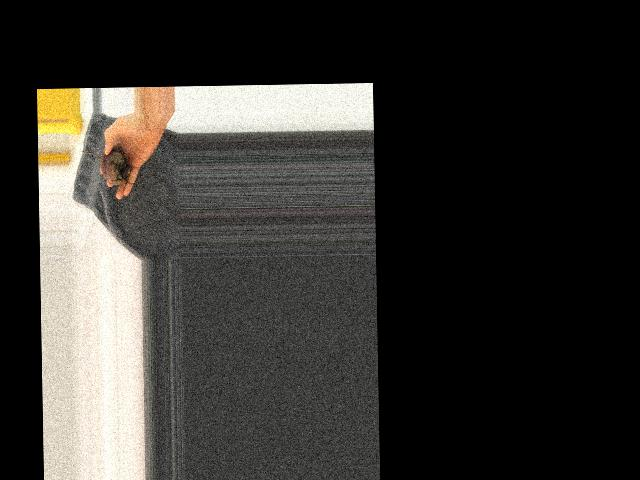beet: (81, 145, 131, 185)
